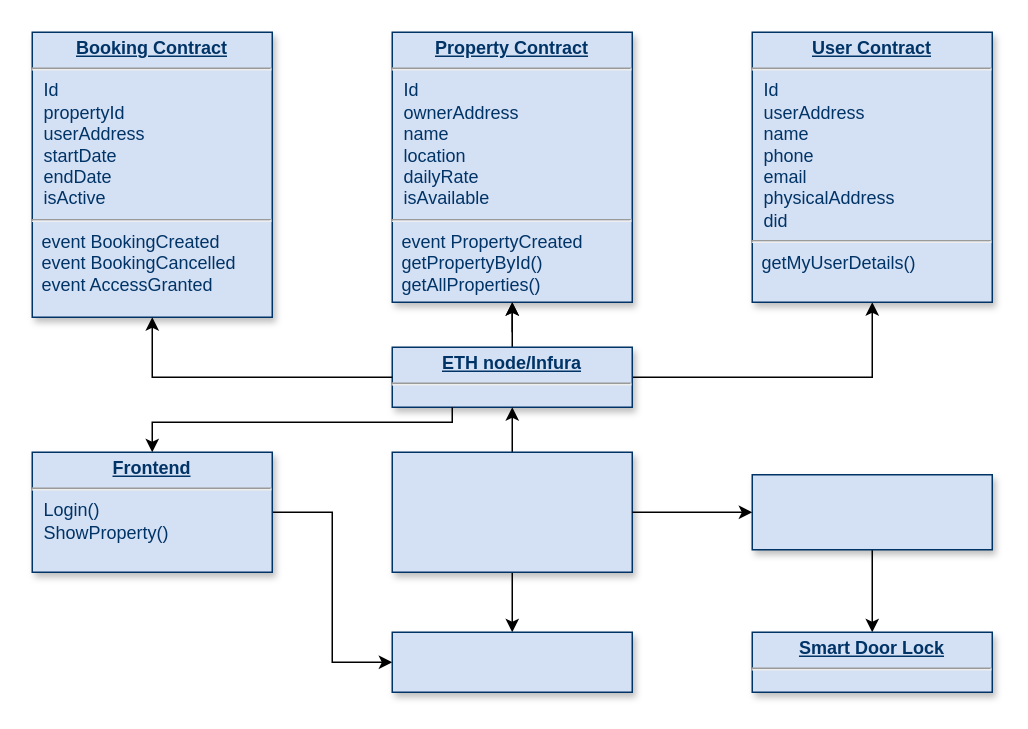
The diagram is 1028 pixels wide and 729 high, and some of its shapes have lost their labels. Each missing label, with the centre of its shape:
HomeAssistant: the point at 873,513
MetaMask Wallet: the point at 513,664
Proxy Server eventSubscriber() unlockVirtualLock(): the point at 513,514
